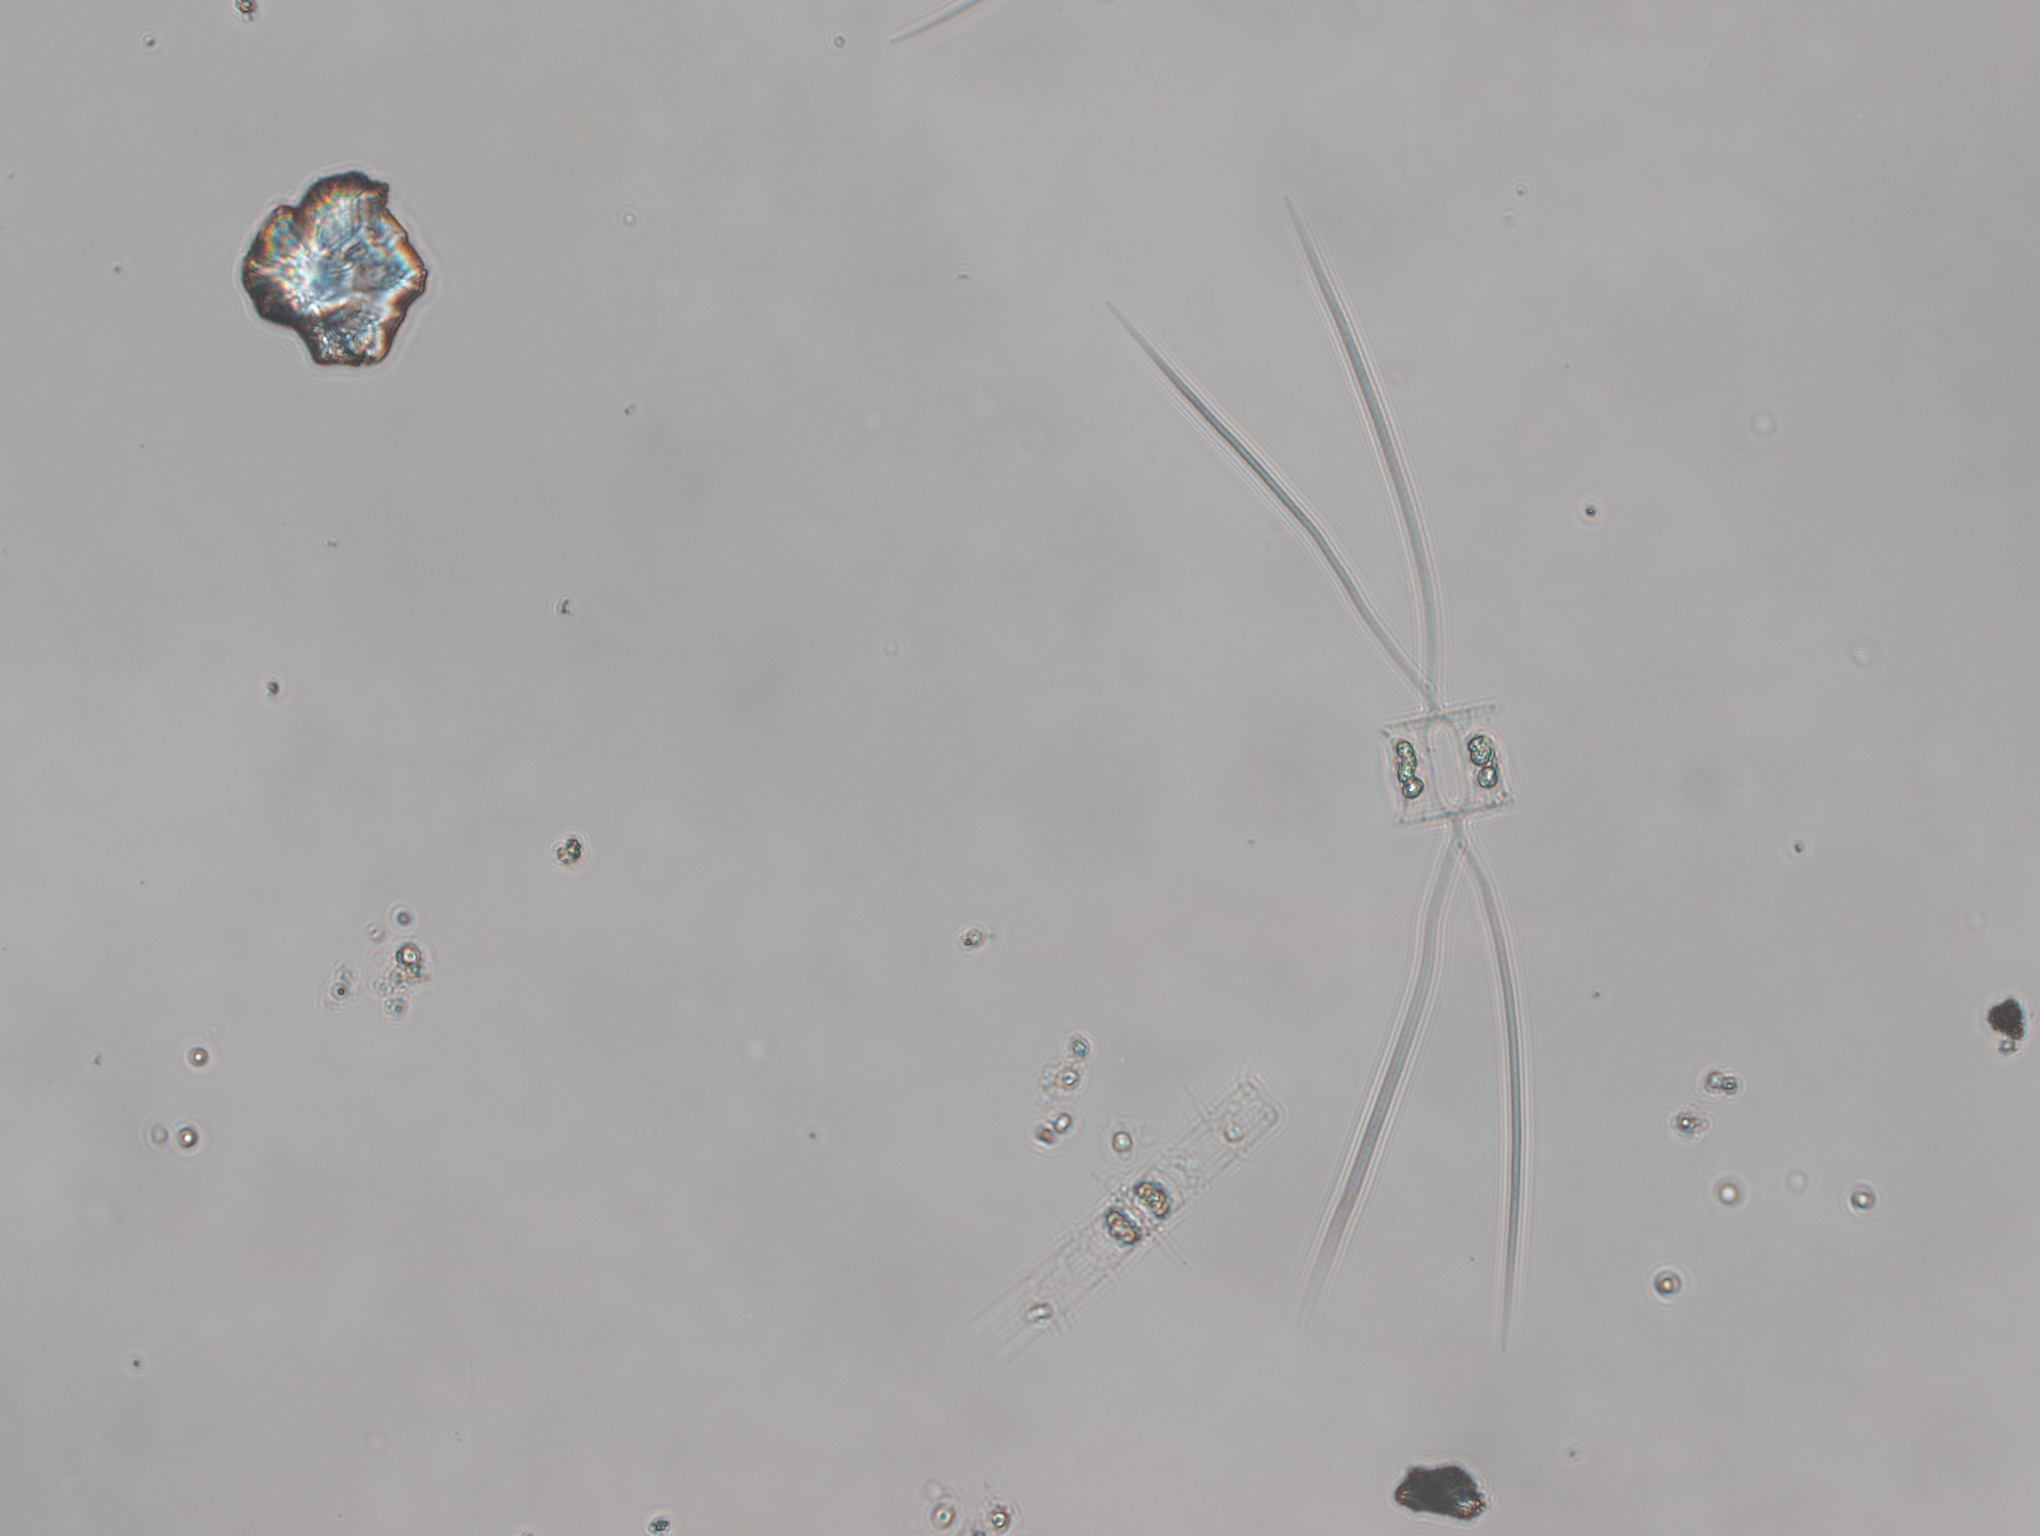chaetoceros: (1097, 190, 1600, 1346)
